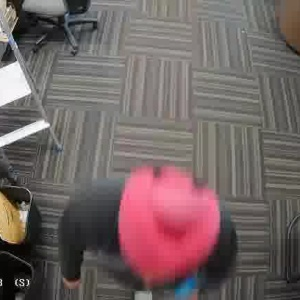person: (67, 165, 242, 296)
